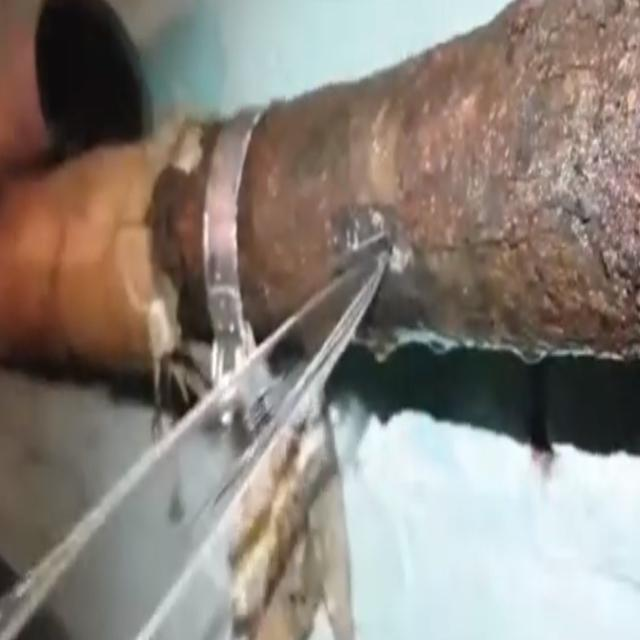leak: (0, 242, 388, 638)
